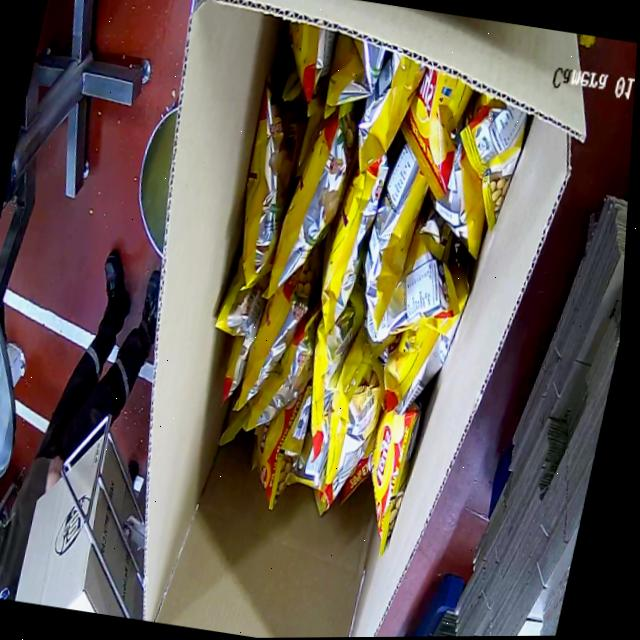SALTED: (157, 38, 541, 538)
